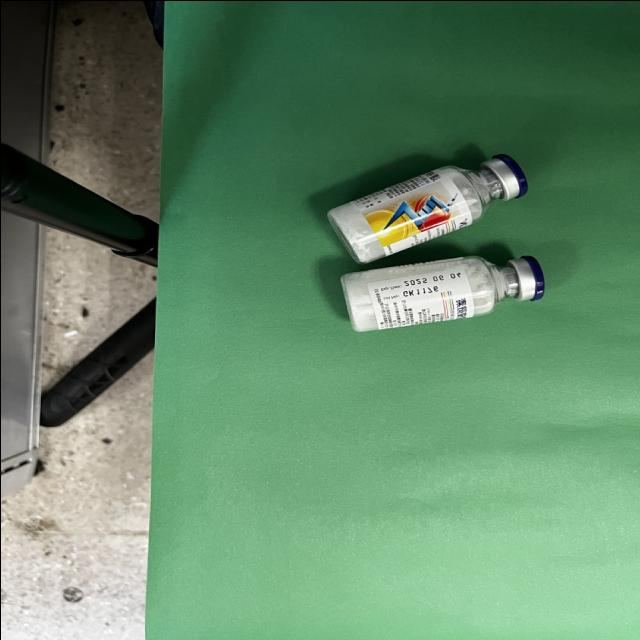Vials: (326, 152, 527, 262), (339, 254, 545, 330)
